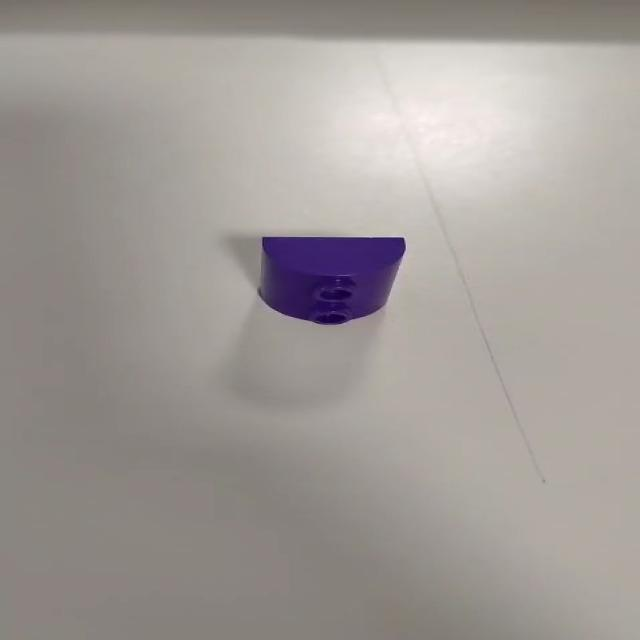H2x2x1: (254, 234, 414, 328)
